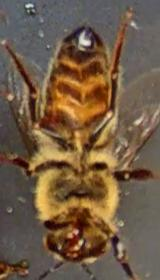varroa_mite: (66, 219, 88, 261)
